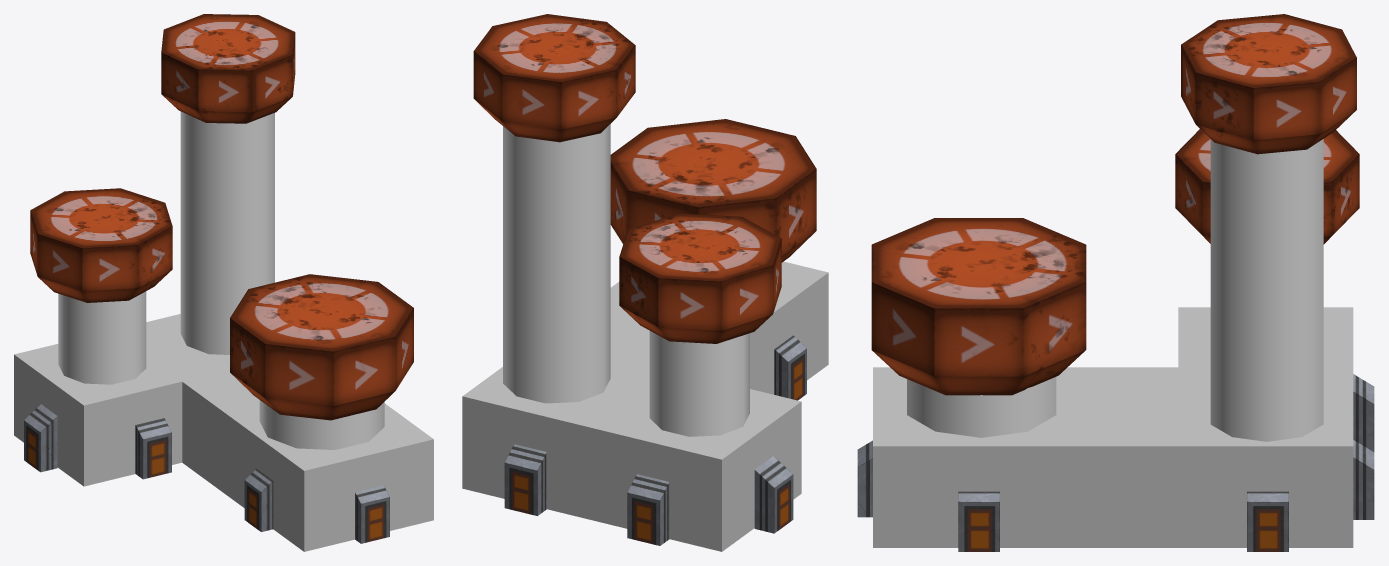
Rendered from building2.fbx.
3 renders of one model, left to right at view 1: azimuth 30°, elevation 25°; view 2: azimuth 150°, elevation 25°; view 3: azimuth 270°, elevation 25°, orthographic. The views are drawn at different scales.
Visible parts, largest first — view 1: Cube.179; view 2: Cube.179; view 3: Cube.179.
Part boxes in pixels (x1,y1,x2,y2): Cube.179: (14, 14, 433, 551); Cube.179: (462, 14, 828, 551); Cube.179: (857, 14, 1374, 551).
Size of the model in its own units: 457 by 628 by 630.
